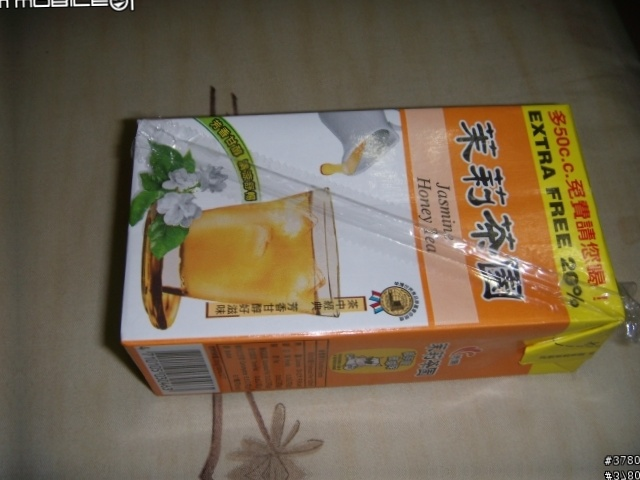鋁箔包: (109, 100, 636, 399)
